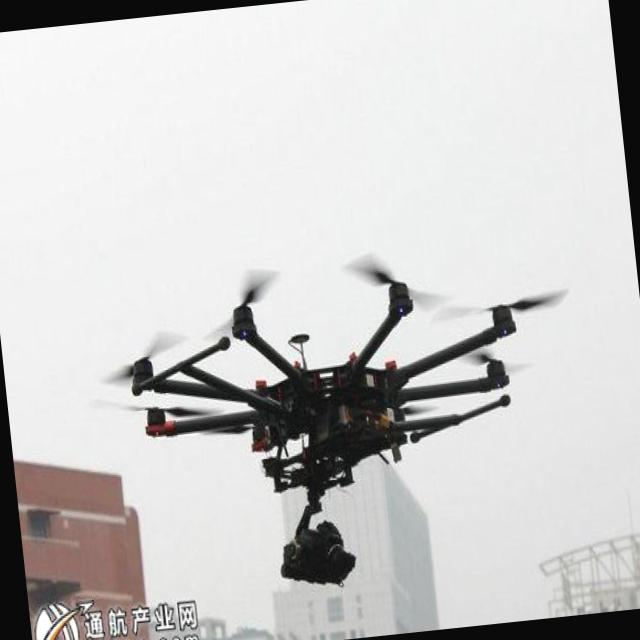drone: (71, 231, 599, 613)
